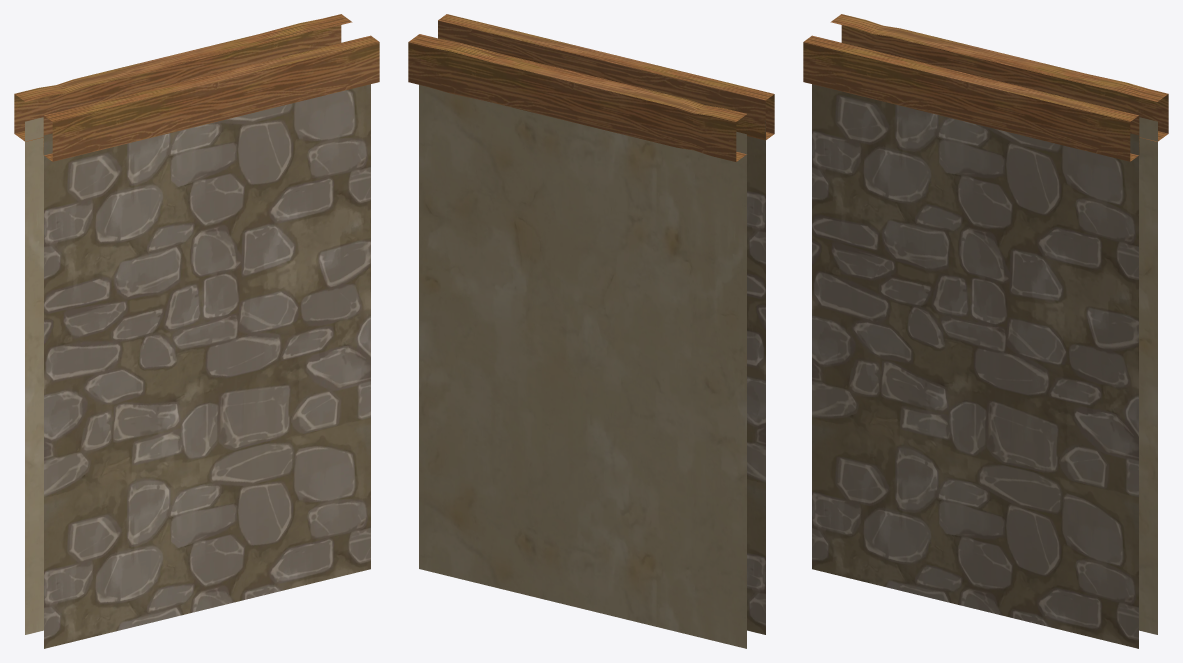
File: Wall_UnevenBrick_Straight.glb
The picture shows the model from 3 angles, left to right: view 1: azimuth 30°, elevation 25°; view 2: azimuth 150°, elevation 25°; view 3: azimuth 330°, elevation 25°; orthographic projection.
Parts seen in each view (by area): view 1: Wall_UnevenBrick_Straight; view 2: Wall_UnevenBrick_Straight; view 3: Wall_UnevenBrick_Straight.
Boxes of the visible parts, <box> form: Wall_UnevenBrick_Straight: <box>14,14,379,648</box>; Wall_UnevenBrick_Straight: <box>408,14,774,648</box>; Wall_UnevenBrick_Straight: <box>803,14,1168,648</box>.
Size of the model in its own units: 2 by 3.12 by 0.4064.
3 materials, 3 textured.
